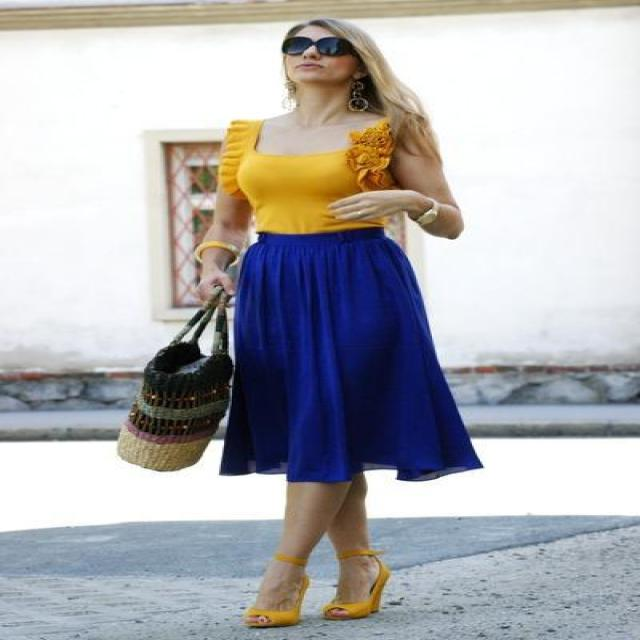bag: (96, 287, 248, 470)
shirt: (218, 120, 420, 234), (174, 306, 233, 345)
shoe: (246, 532, 389, 626)
skirt: (212, 227, 478, 482)
sunglass: (282, 20, 358, 57)
